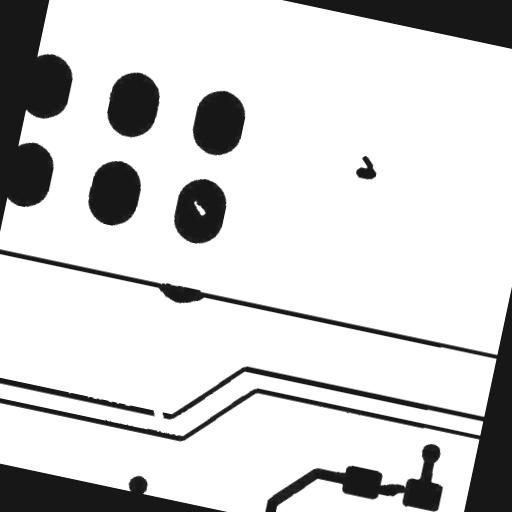copper: (346, 145, 388, 189)
open: (140, 394, 174, 428)
pin-hole: (182, 191, 216, 224)
short: (362, 470, 417, 508)
spur: (147, 272, 214, 315)
